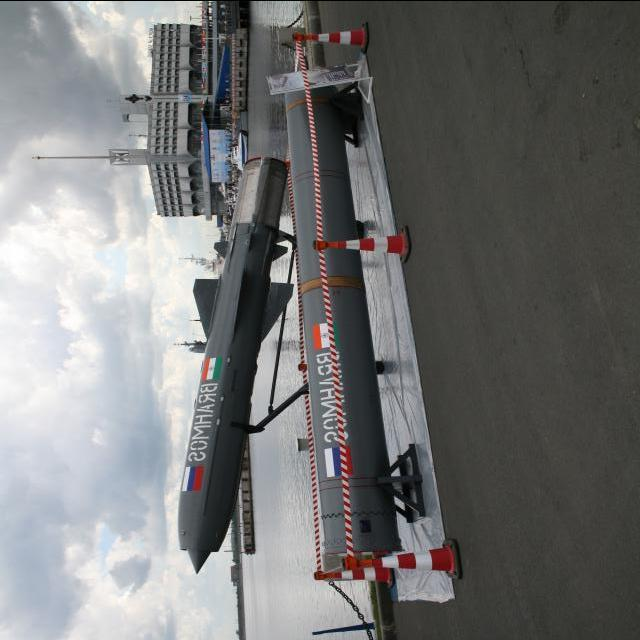Missile: (274, 60, 407, 579), (173, 155, 299, 594)
